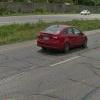cars: (34, 24, 89, 54)
